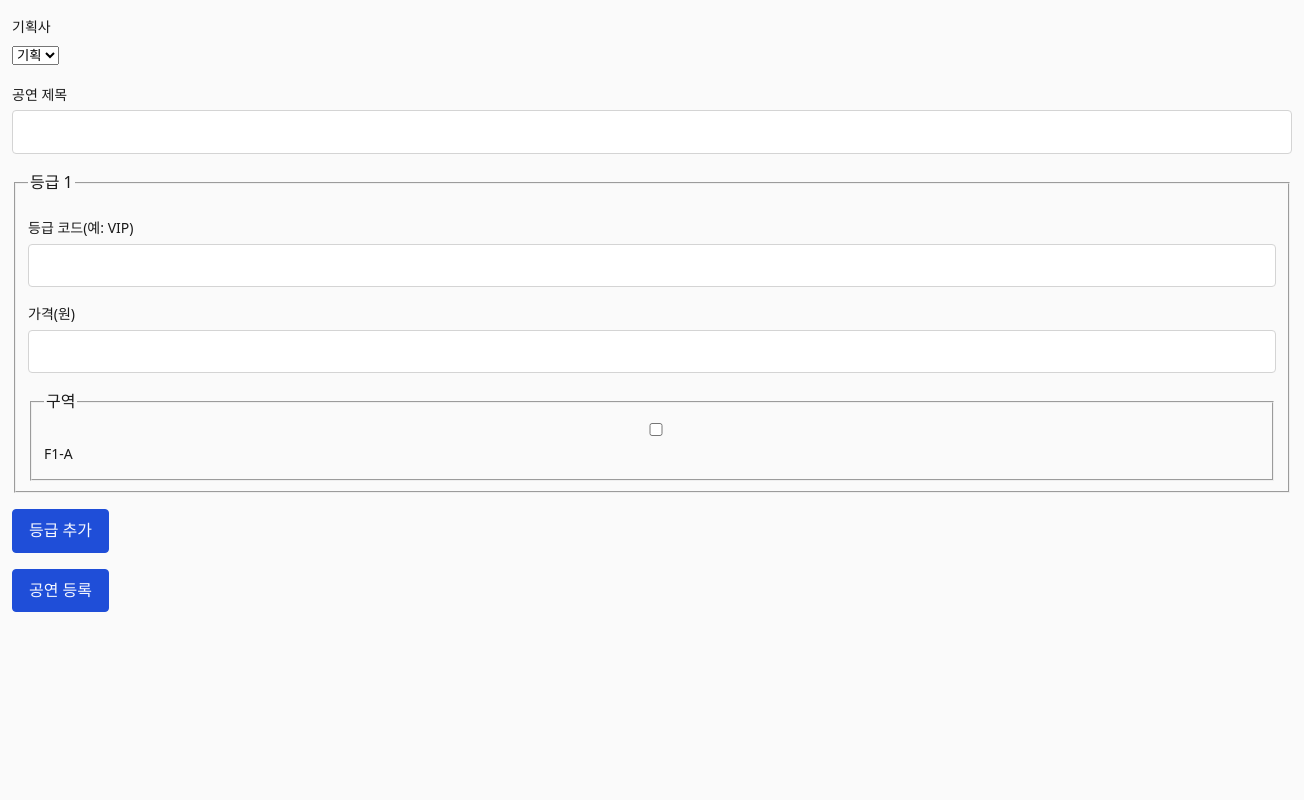
Test: 공연 등록 › 그려지지 않은 줄을 짚으면 폼 전체에 말한다
Type "겨울 콘서트" into the field labelled "공연 제목" at (652, 132), box 12,110 -> 1292,154
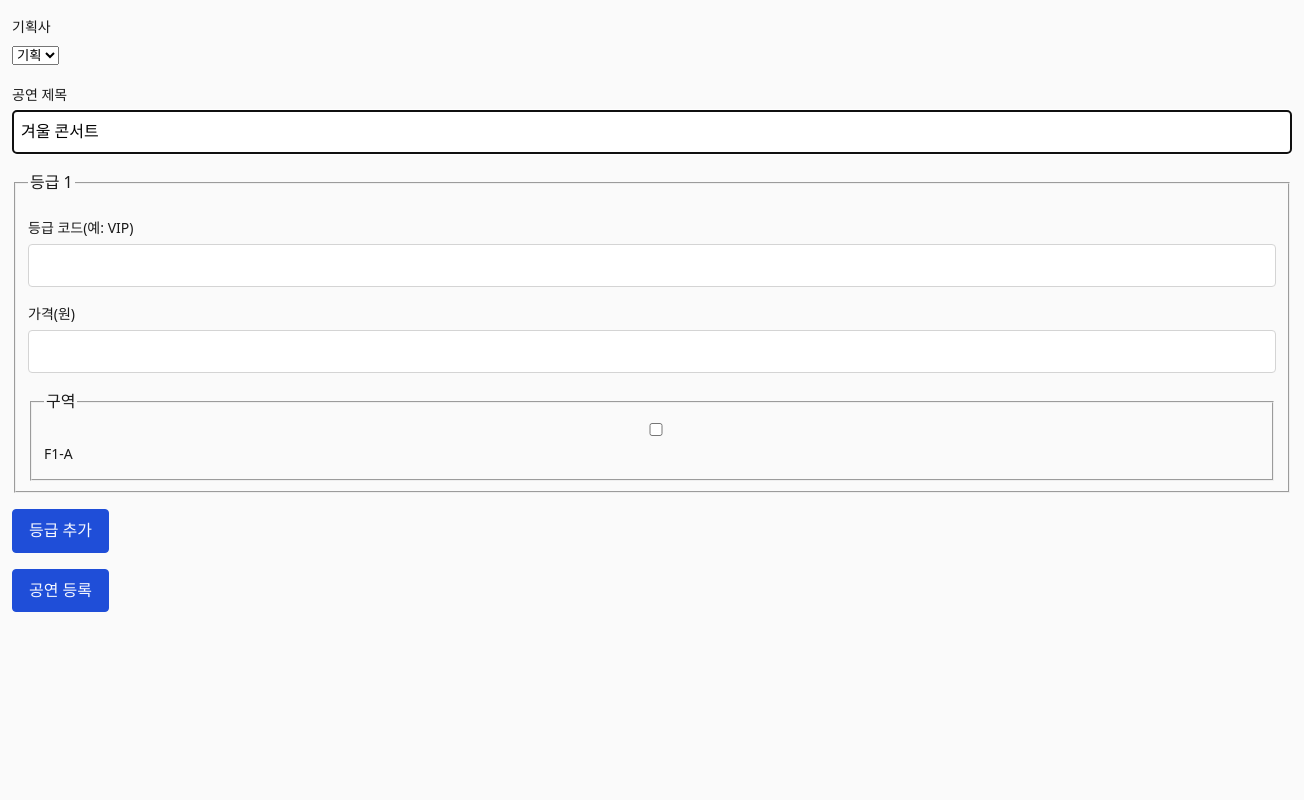
Type "VIP" into the field labelled "등급 코드(예: VIP)" at (652, 265), box 28,244 -> 1276,287
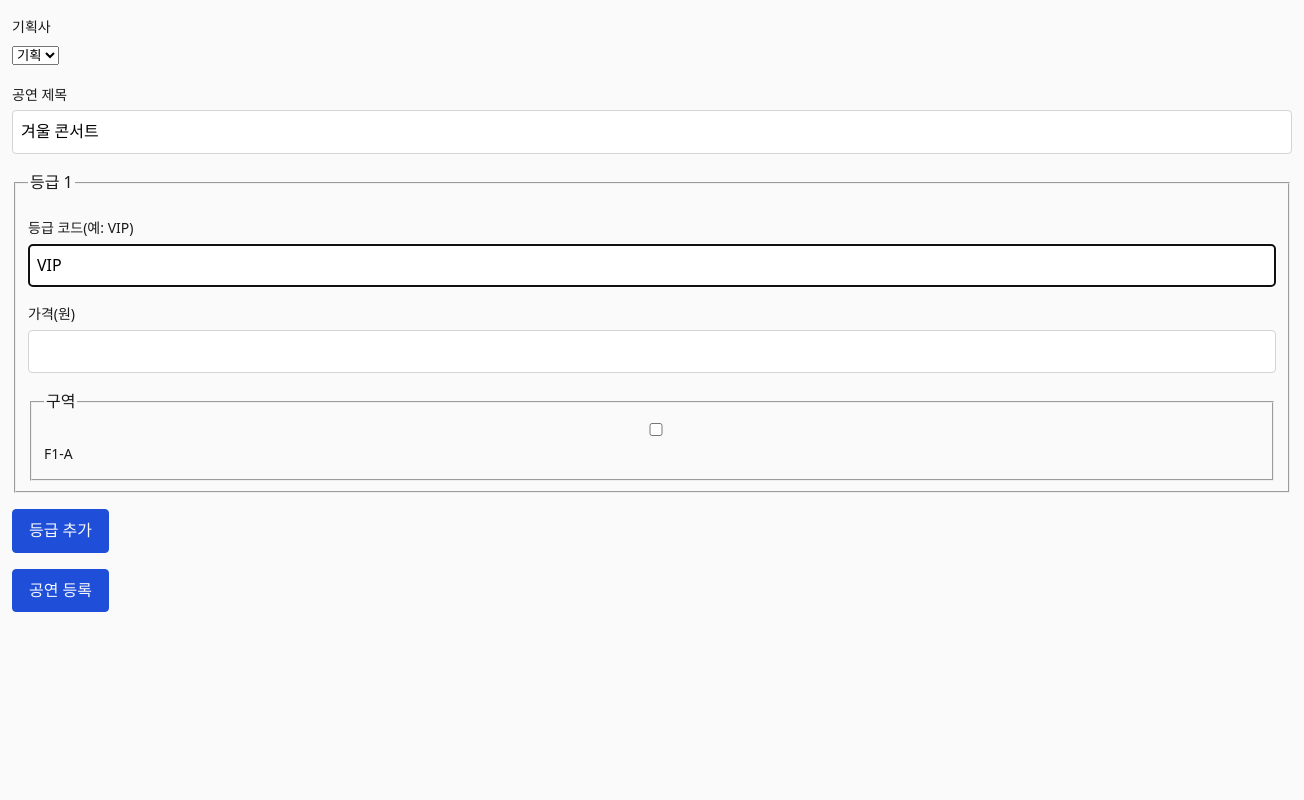
Type "154000" into the number field labelled "가격(원)" at (652, 351), box 28,330 -> 1276,373
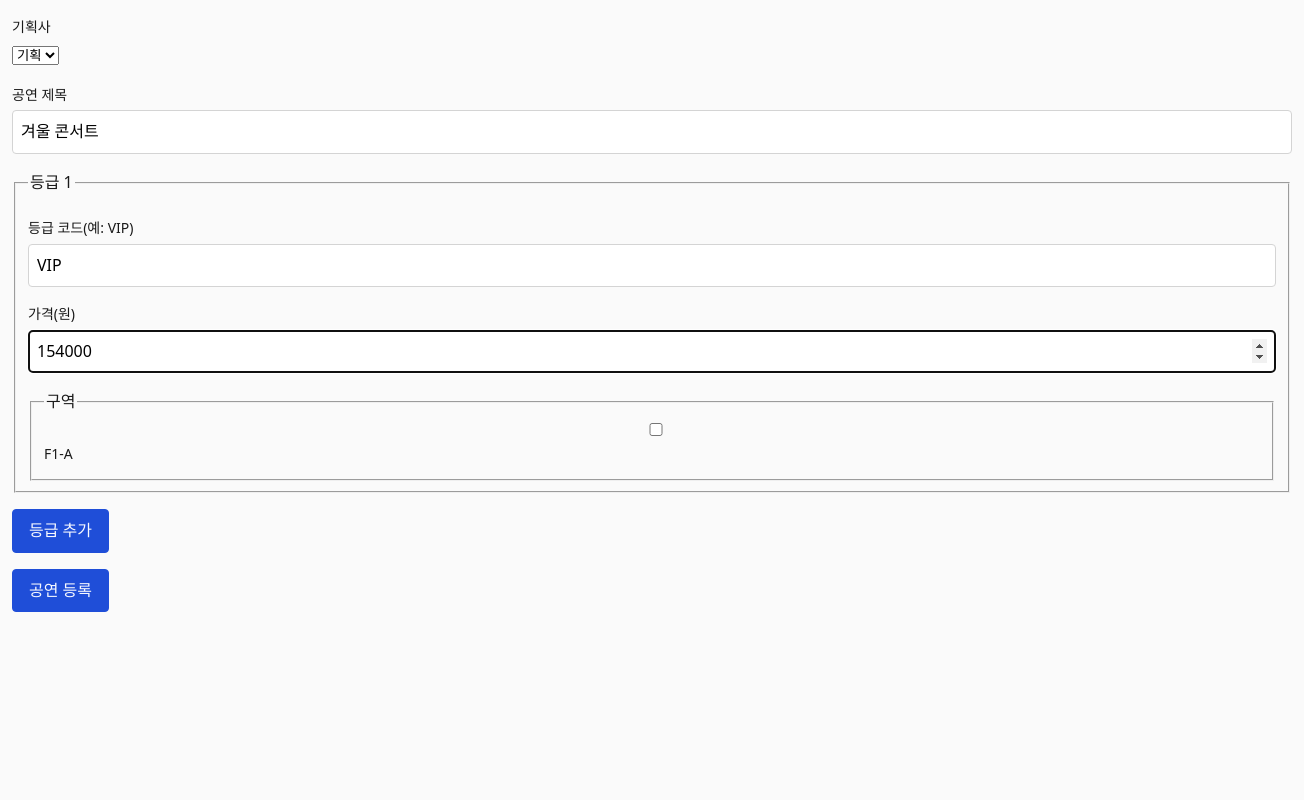
Click the checkbox labelled "F1-A" at (656, 430), box 48,423 -> 1264,436
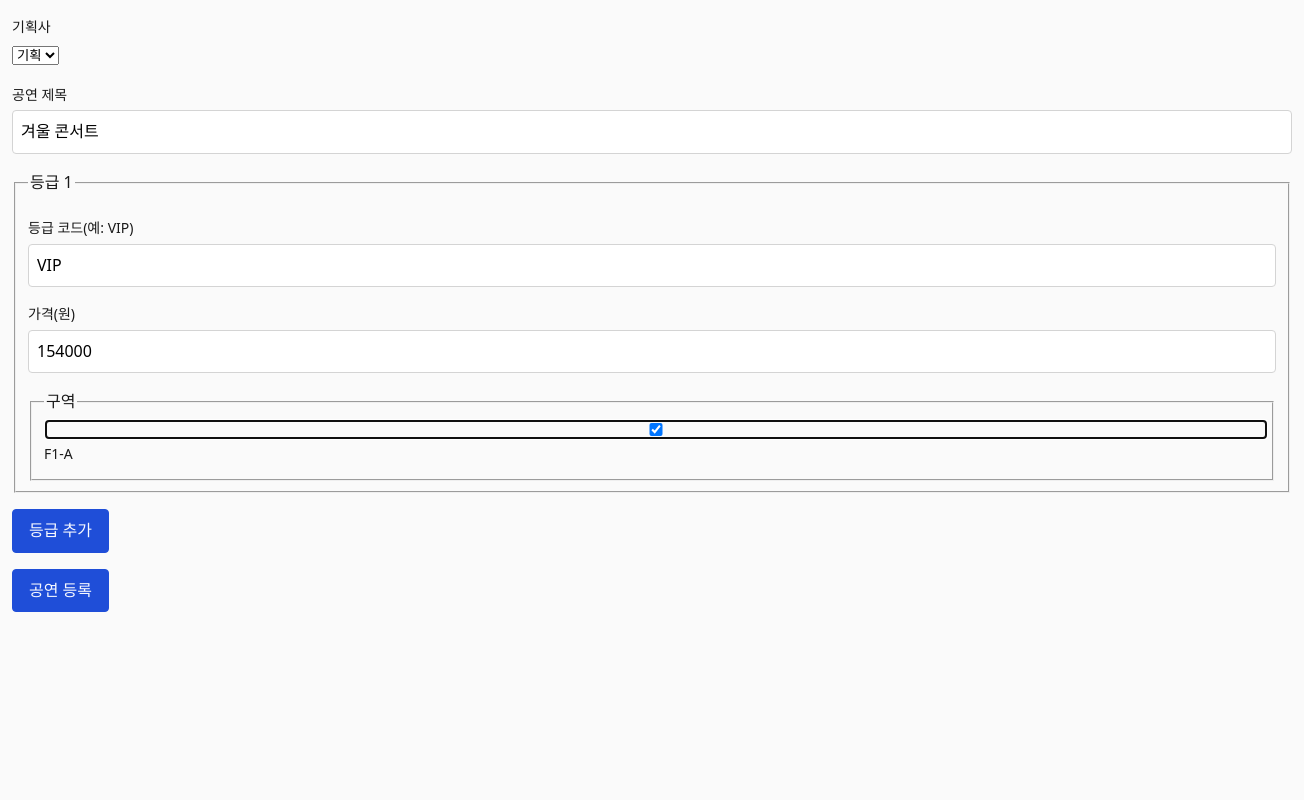
Click the button "공연 등록" at (60, 590), box 12,569 -> 109,612
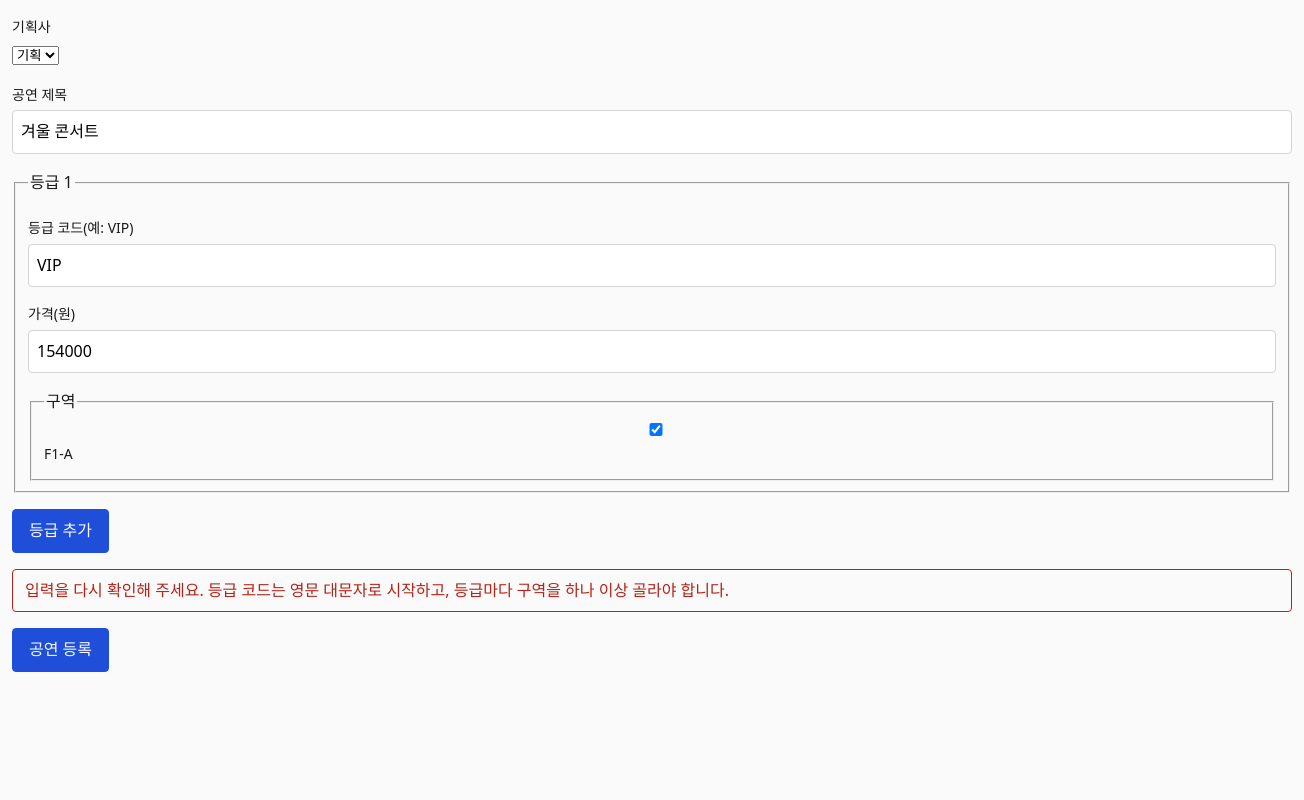
Now the message shows "입력을 다시 확인해 주세요.", box 25,579 -> 729,601
